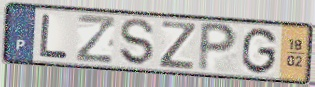G: (239, 26, 279, 76)
L: (38, 12, 71, 60)
P: (195, 19, 240, 74)
S: (118, 17, 156, 68)
Z: (74, 12, 117, 65), (157, 19, 199, 71)
